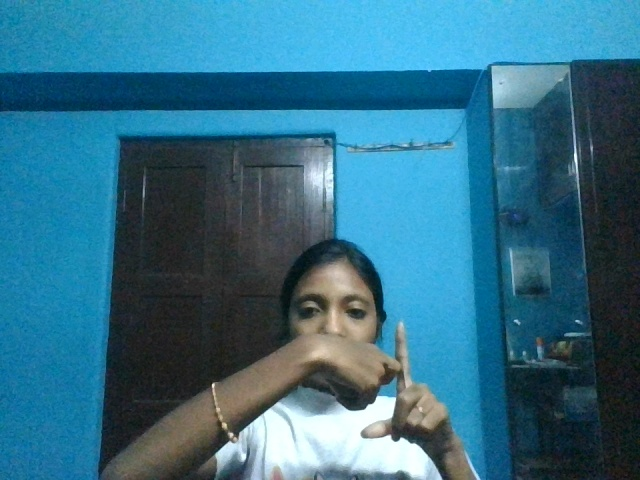K: (294, 317, 461, 463)
